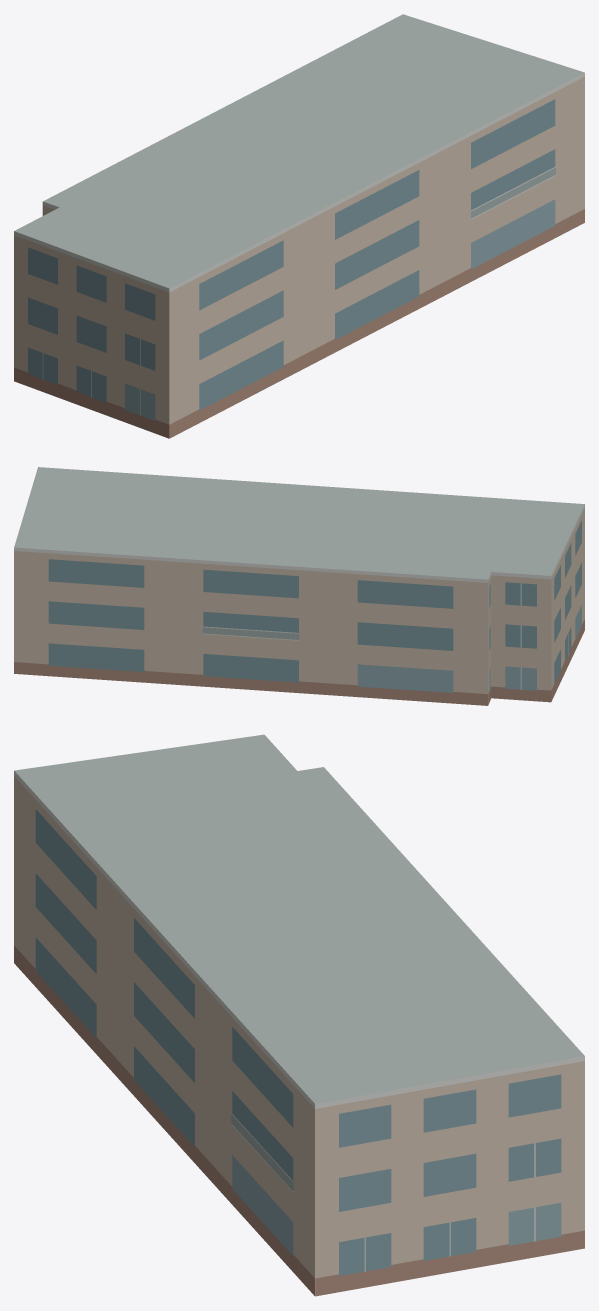
File: survey-upis-32834257.glb
3 renders of one model, top to bottom at view 1: azimuth 30°, elevation 25°; view 2: azimuth 150°, elevation 25°; view 3: azimuth 270°, elevation 25°, orthographic. The views are drawn at different scales.
Visible parts, largest first — view 1: survey-upis-32834257.tmp; view 2: survey-upis-32834257.tmp; view 3: survey-upis-32834257.tmp.
Part boxes in pixels (x1,y1,x2,y2): survey-upis-32834257.tmp: [14, 14, 584, 438]; survey-upis-32834257.tmp: [14, 467, 584, 705]; survey-upis-32834257.tmp: [14, 734, 584, 1296].
Size of the model in its own units: 37.66 by 9.15 by 24.59.
